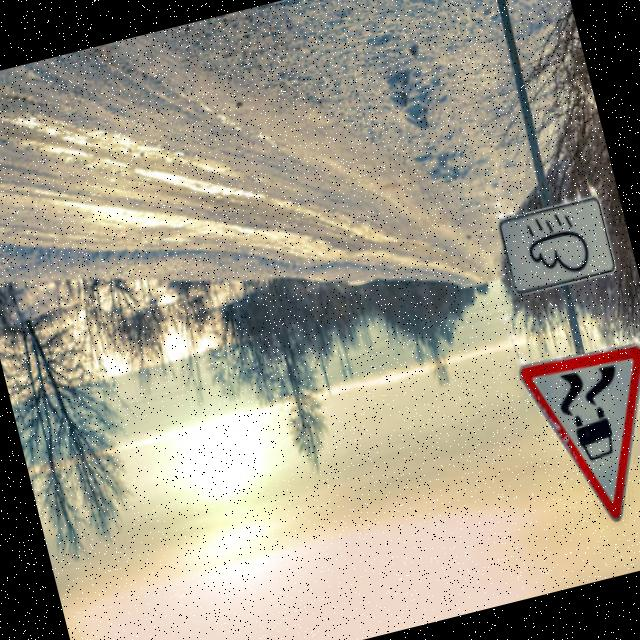road_slippery: (513, 326, 640, 547)
